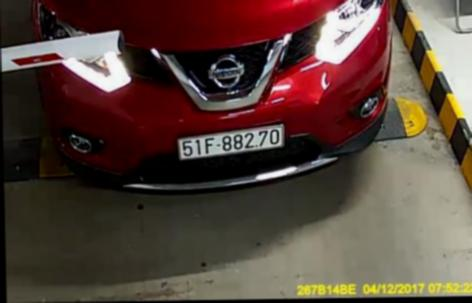License_Plate: (172, 125, 287, 156)
